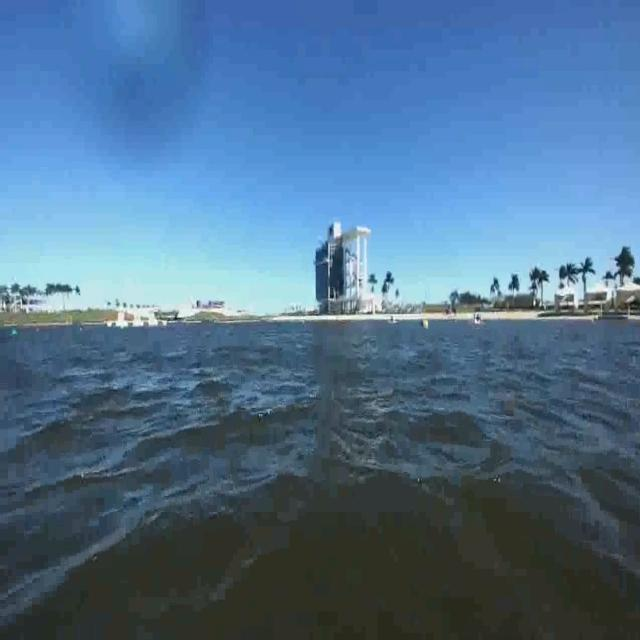yellow-buoy: (422, 318, 429, 331)
